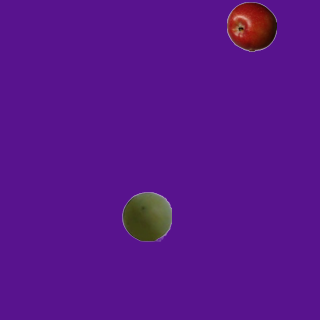Apple Braeburn: (226, 1, 276, 51)
Grape White 4: (121, 191, 171, 241)
